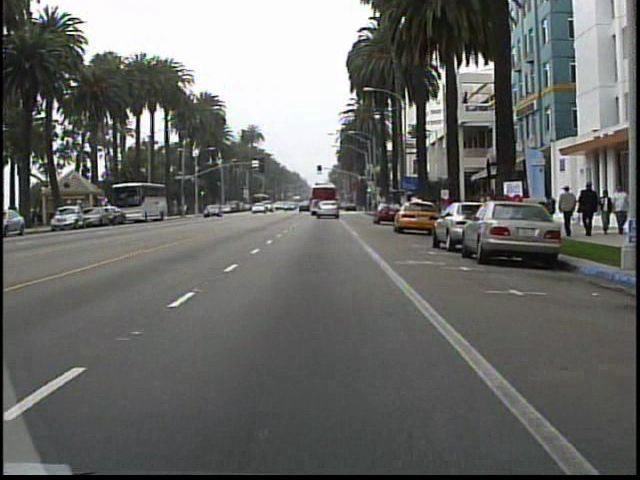person: (578, 176, 599, 239), (558, 183, 578, 238), (598, 186, 614, 238), (611, 183, 627, 234)
